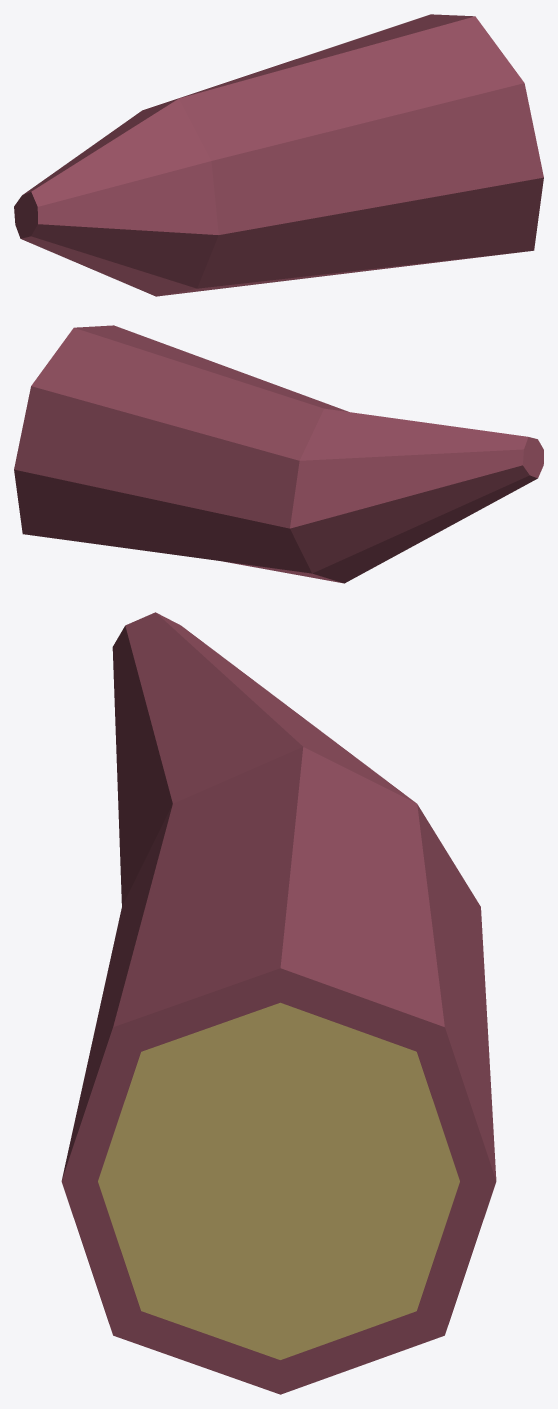
Rendered from sweetPotatoCut02.fbx.
3 views of the same model, one above another, from view 1: azimuth 30°, elevation 25°; view 2: azimuth 150°, elevation 25°; view 3: azimuth 270°, elevation 25° (orthographic). The views are drawn at different scales.
Parts seen in each view (by area): view 1: sweetPotatoCut02; view 2: sweetPotatoCut02; view 3: sweetPotatoCut02.
Boxes of the visible parts, left/top/right/bottom form: sweetPotatoCut02: left=14, top=14, right=543, bottom=296; sweetPotatoCut02: left=14, top=325, right=543, bottom=583; sweetPotatoCut02: left=61, top=612, right=496, bottom=1394.
Size of the model in its own units: 12.67 by 5.65 by 5.36.
Materials: 1 (1 with a texture image).
